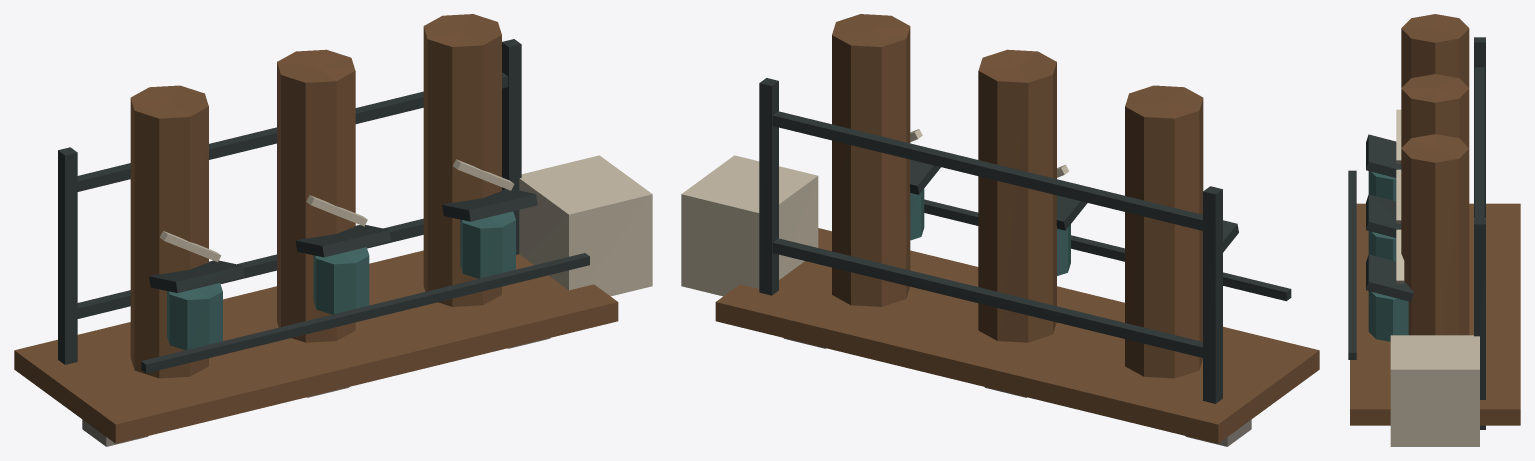
The model's file is Resin-Collector.glb.
The picture shows the model from 3 angles, left to right: view 1: azimuth 30°, elevation 25°; view 2: azimuth 150°, elevation 25°; view 3: azimuth 270°, elevation 25°; orthographic projection. The views are drawn at different scales.
Parts seen in each view (by area): view 1: resin-collector-static-resin-collector-warm-timber-trunks-wa, resin-collector-static-resin-collector-charcoal-frame-hoods, resin-collector-static-resin-collector-cream-storage-box, resin-collector-static-resin-collector-muted-teal-closed-cup; view 2: resin-collector-static-resin-collector-warm-timber-trunks-wa, resin-collector-static-resin-collector-charcoal-frame-hoods, resin-collector-static-resin-collector-cream-storage-box, resin-collector-static-resin-collector-muted-teal-closed-cup; view 3: resin-collector-static-resin-collector-warm-timber-trunks-wa, resin-collector-static-resin-collector-cream-storage-box, resin-collector-static-resin-collector-charcoal-frame-hoods, resin-collector-static-resin-collector-muted-teal-closed-cup.
Part boxes in pixels (<box>): resin-collector-static-resin-collector-warm-timber-trunks-wa: <box>14,14,618,443</box>; resin-collector-static-resin-collector-charcoal-frame-hoods: <box>58,39,589,373</box>; resin-collector-static-resin-collector-cream-storage-box: <box>159,155,652,296</box>; resin-collector-static-resin-collector-muted-teal-closed-cup: <box>167,211,515,350</box>; resin-collector-static-resin-collector-warm-timber-trunks-wa: <box>715,14,1319,443</box>; resin-collector-static-resin-collector-charcoal-frame-hoods: <box>759,78,1291,403</box>; resin-collector-static-resin-collector-cream-storage-box: <box>681,129,1069,296</box>; resin-collector-static-resin-collector-muted-teal-closed-cup: <box>910,189,1070,275</box>; resin-collector-static-resin-collector-warm-timber-trunks-wa: <box>1350,14,1520,425</box>; resin-collector-static-resin-collector-cream-storage-box: <box>1390,109,1479,446</box>; resin-collector-static-resin-collector-charcoal-frame-hoods: <box>1348,37,1485,429</box>; resin-collector-static-resin-collector-muted-teal-closed-cup: <box>1368,171,1408,341</box>.
Bounding box in the file's own units: 6.7 × 3.63 × 2.12.
